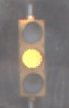Yellow: (12, 6, 54, 97)
